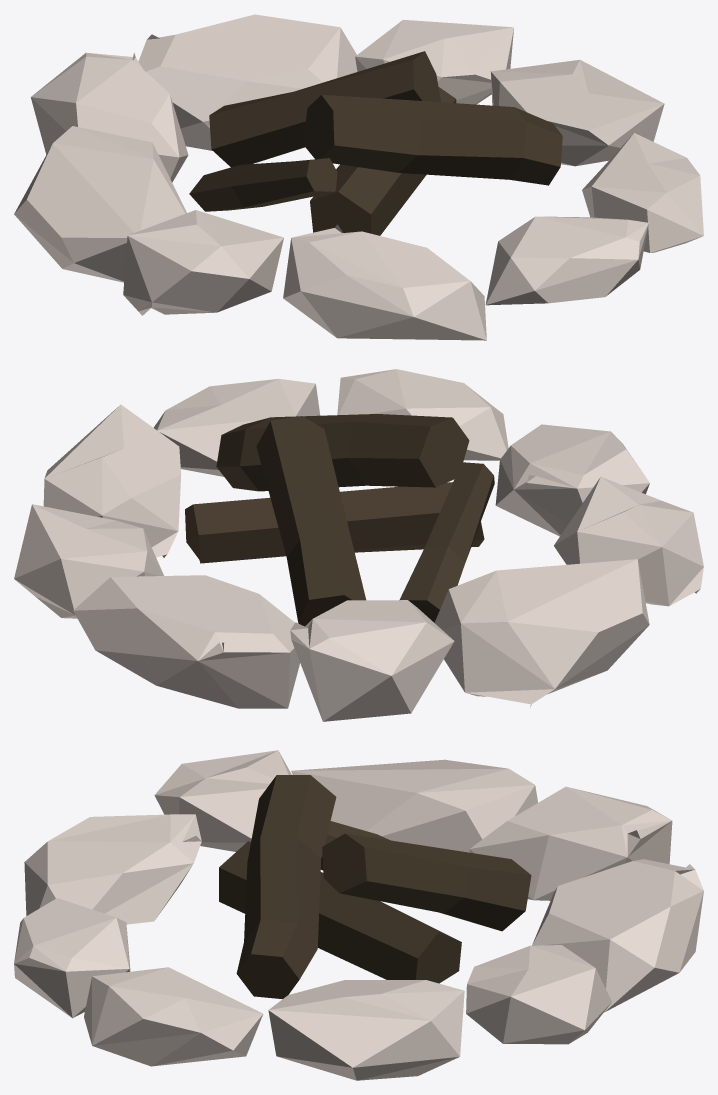
Rendered from roman_campfire.fbx.
3 views of the same model, one above another, from view 1: azimuth 30°, elevation 25°; view 2: azimuth 150°, elevation 25°; view 3: azimuth 270°, elevation 25° (orthographic). The views are drawn at different scales.
Visible parts, largest first — view 1: Cylinder.026, Cylinder.025; view 2: Cylinder.026, Cylinder.025; view 3: Cylinder.026, Cylinder.025.
Part boxes in pixels (x1,y1,x2,y2): Cylinder.026: [14, 14, 703, 340]; Cylinder.025: [189, 51, 562, 235]; Cylinder.026: [14, 369, 703, 721]; Cylinder.025: [185, 414, 494, 626]; Cylinder.026: [14, 750, 703, 1080]; Cylinder.025: [219, 775, 531, 998].
Size of the model in its own units: 1.56 by 0.4029 by 1.56.
